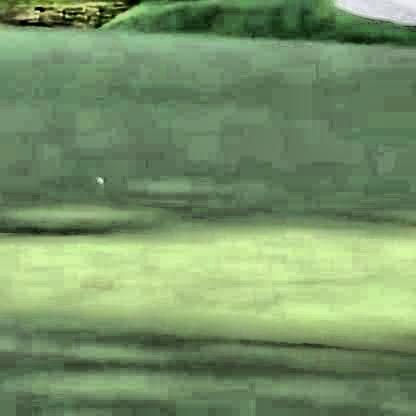golfball: (93, 171, 104, 182)
